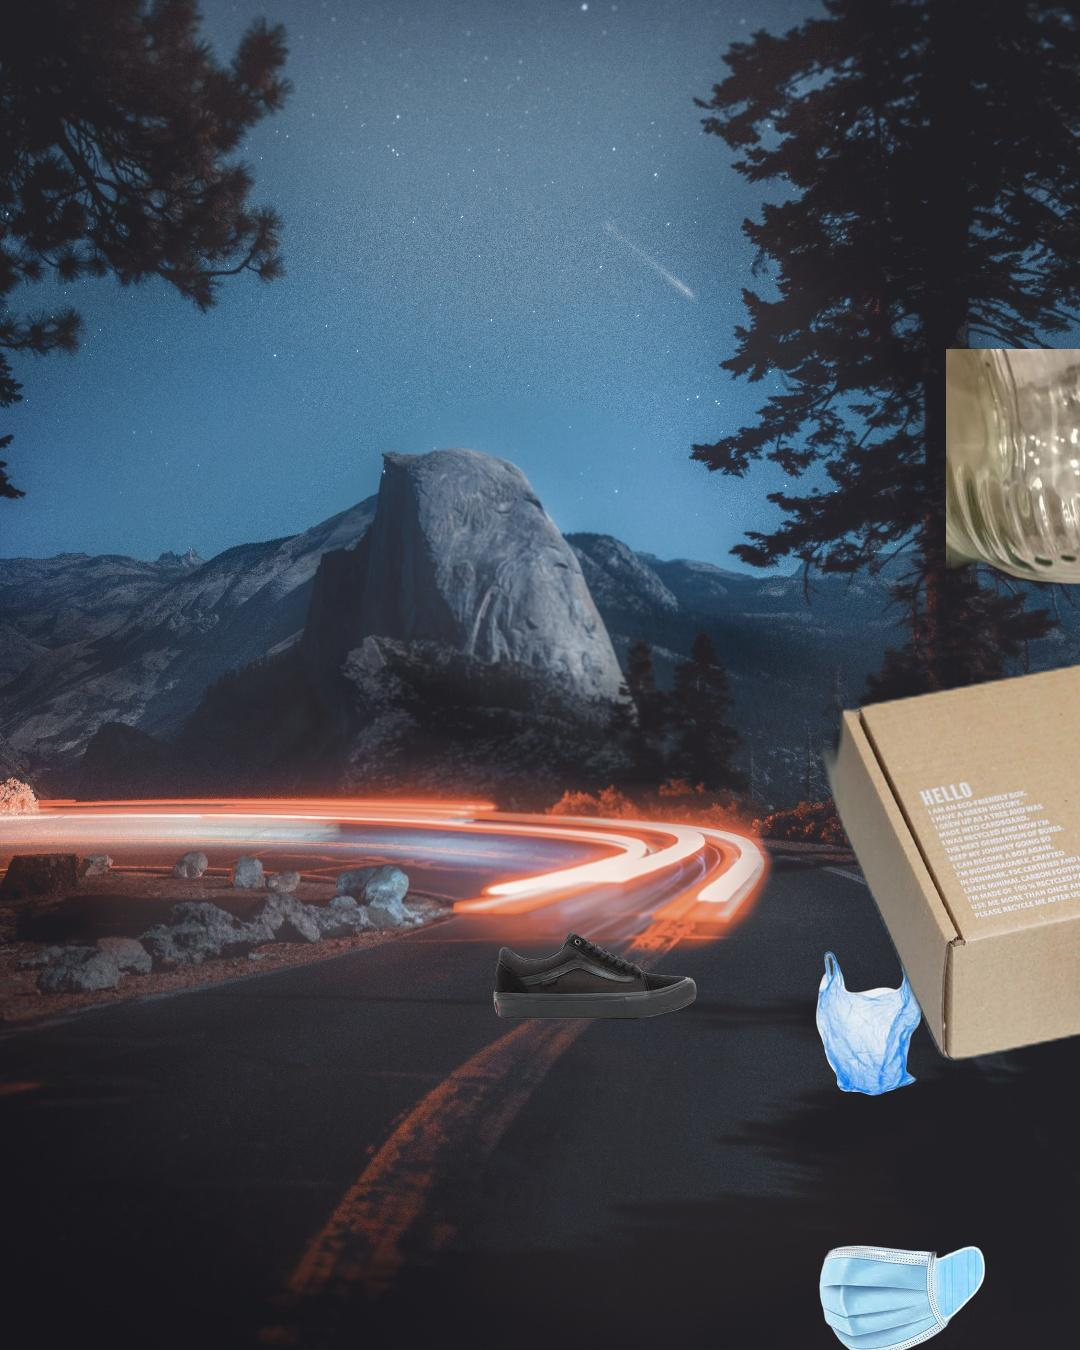glass: (946, 349, 1080, 588)
plastic-bag: (813, 943, 927, 1097)
shoes: (490, 928, 700, 1022)
trash: (816, 1163, 1036, 1350)
trashbox-cardboard: (813, 501, 1080, 1350)
